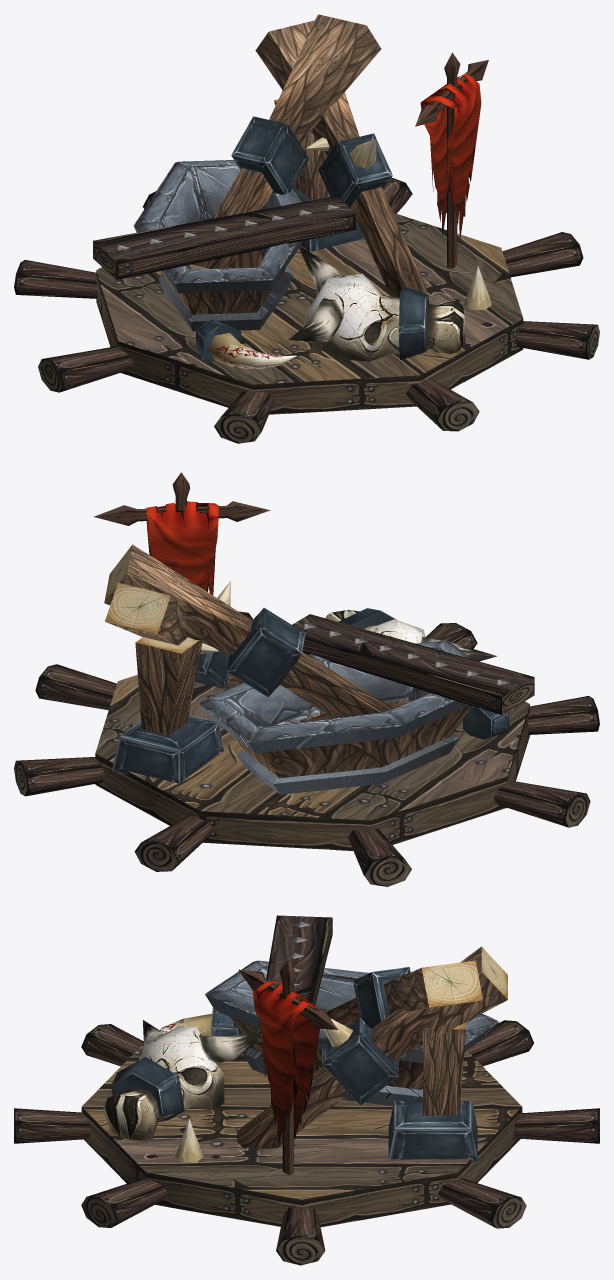
The model's file is Orc_Construction_tower_air_2.FBX.
3 views of the same model, one above another, from view 1: azimuth 30°, elevation 25°; view 2: azimuth 150°, elevation 25°; view 3: azimuth 270°, elevation 25° (orthographic). The views are drawn at different scales.
Visible parts, largest first — view 1: rotator_03, metal_barrel, wood-plank11, metal_ring (×4), animal_Skull001, trunk_plank_, trunk_plank_01, Plane004, handle-bar06, handle-bar07, handle-bar03, handle-bar02 (+10 smaller); view 2: rotator_03, metal_barrel, wood-plank11, trunk_plank_, metal_ring (×4), wood-plank07, trunk_plank_03, metal_base_01, Plane004, trunk_plank_01, handle-bar06, handle-bar01 (+7 smaller); view 3: rotator_03, metal_ring (×4), animal_Skull001, trunk_plank_01, Plane004, metal_barrel, metal_base_01, trunk_plank_, wood-plank11, trunk_plank_03, handle-bar01, handle-bar04 (+9 smaller).
Boxes of the visible parts, x1,y1,x2,y2 form: rotator_03: (96,213,523,414); metal_barrel: (133,160,303,331); wood-plank11: (93,196,356,279); metal_ring (×4): (196,116,428,362); animal_Skull001: (288,245,465,361); trunk_plank_: (189,14,381,269); trunk_plank_01: (255,20,427,296); Plane004: (420,73,481,239); handle-bar06: (38,346,133,392); handle-bar07: (14,260,97,298); handle-bar03: (514,321,599,359); handle-bar02: (502,232,583,277); rotator_03: (95,674,529,850); metal_barrel: (198,640,472,794); wood-plank11: (292,614,534,714); trunk_plank_: (104,544,393,717); metal_ring (×4): (195,608,509,739); wood-plank07: (236,699,471,778); trunk_plank_03: (135,637,202,735); metal_base_01: (112,715,224,783); Plane004: (146,501,218,595); trunk_plank_01: (105,582,243,689); handle-bar06: (493,780,590,827); handle-bar01: (14,757,105,796); rotator_03: (81,1033,522,1227); metal_ring (×4): (111,967,410,1122); animal_Skull001: (103,1020,257,1140); trunk_plank_01: (237,946,507,1148); Plane004: (252,981,319,1144); metal_barrel: (205,960,499,1106); metal_base_01: (388,1100,478,1162); trunk_plank_: (326,960,482,1026); wood-plank11: (257,915,332,1044); trunk_plank_03: (423,1022,465,1115); handle-bar01: (438,1178,526,1228); handle-bar04: (513,1108,599,1143).
Bounding box in the file's own units: 4638 × 2096 × 4537.
